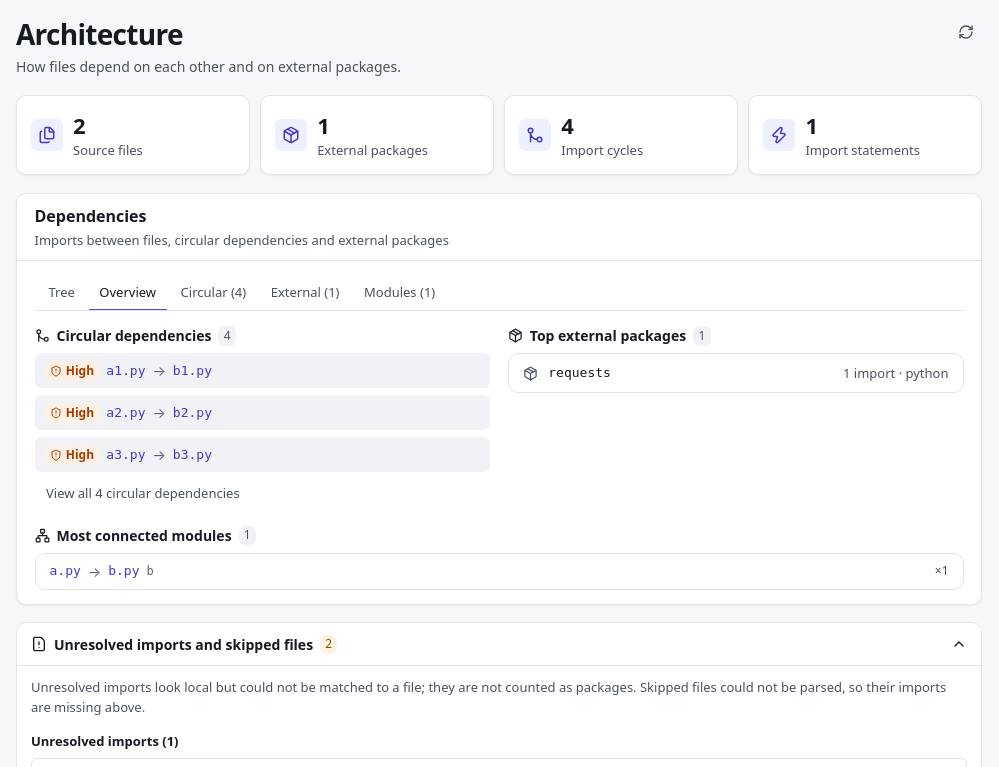
Test case: ArchitecturePage fetching (D5 / BUG-22) › refresh starts one recompute job; the first load never recomputes (B2, B3)
Expected: the tab "External (1)" is shown, x1=260 y1=275 x2=350 y2=311
Click the button named "refresh dependency analysis" at (966, 32), box x1=950 y1=16 x2=982 y2=48
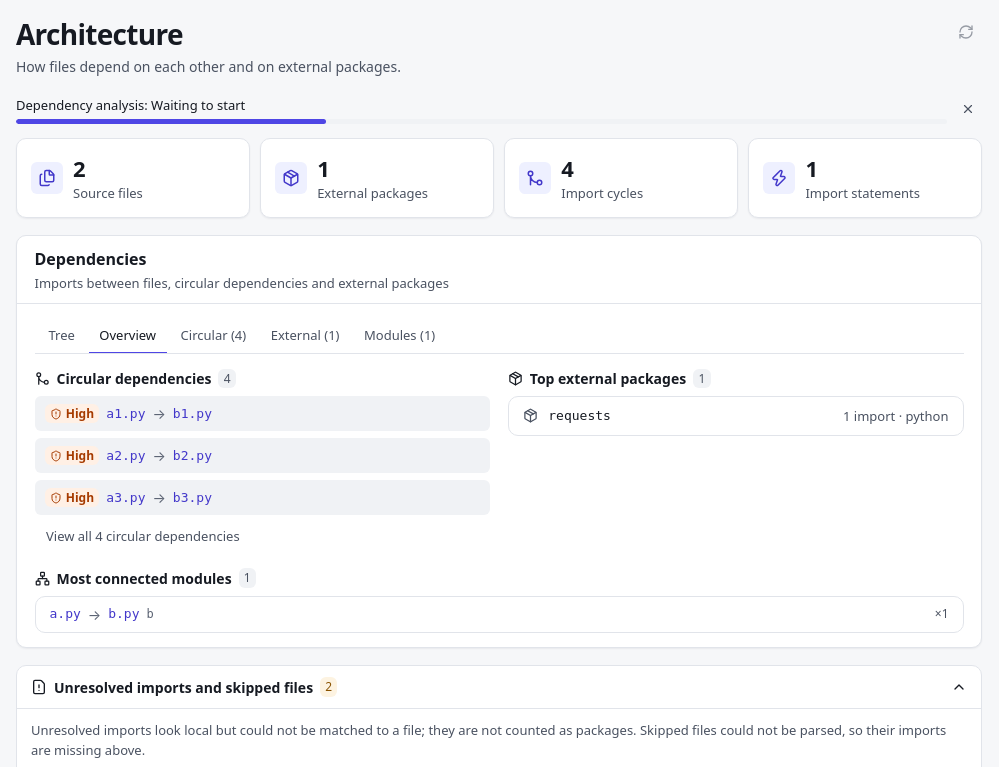
Now the progress indicator named "Dependency analysis" is shown, box x1=16 y1=118 x2=947 y2=124
Now the button named "refresh dependency analysis" is disabled, box x1=950 y1=16 x2=982 y2=48
